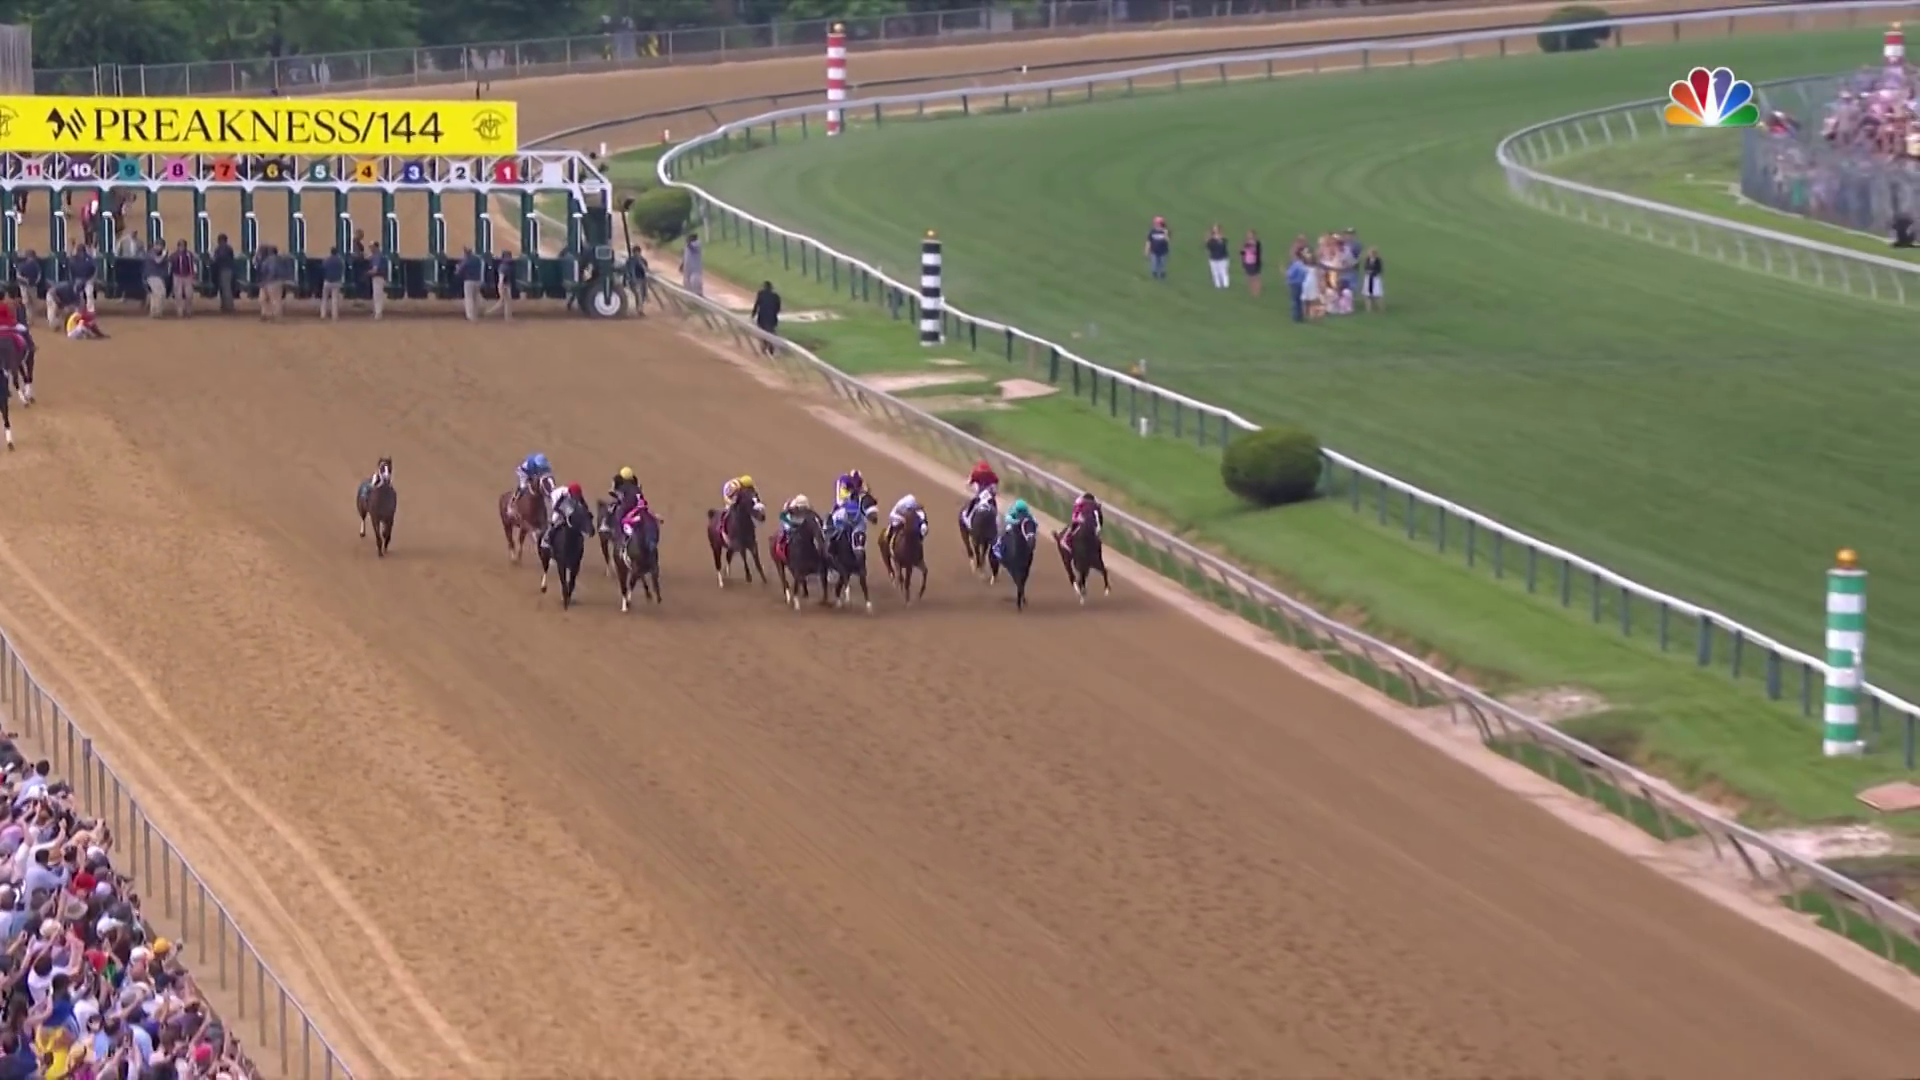jockey: (723, 473, 760, 541), (607, 465, 641, 531), (513, 454, 551, 512), (553, 483, 588, 539), (967, 462, 998, 522), (782, 493, 814, 553), (891, 495, 924, 549), (1069, 493, 1105, 541), (1004, 500, 1038, 549), (835, 468, 872, 513), (622, 500, 651, 553), (827, 506, 864, 547)
